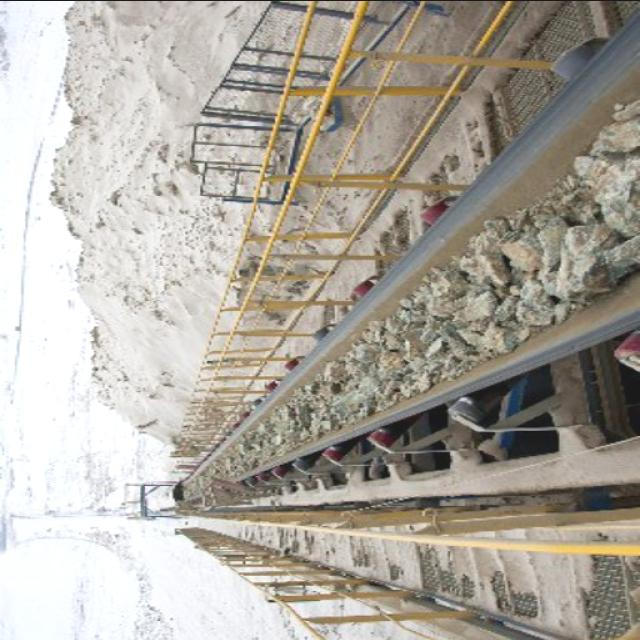conveyor: (180, 6, 640, 506)
